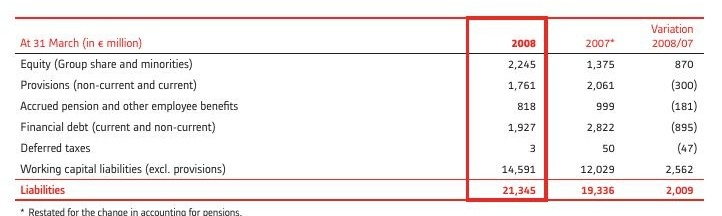table: (0, 0, 722, 216)
